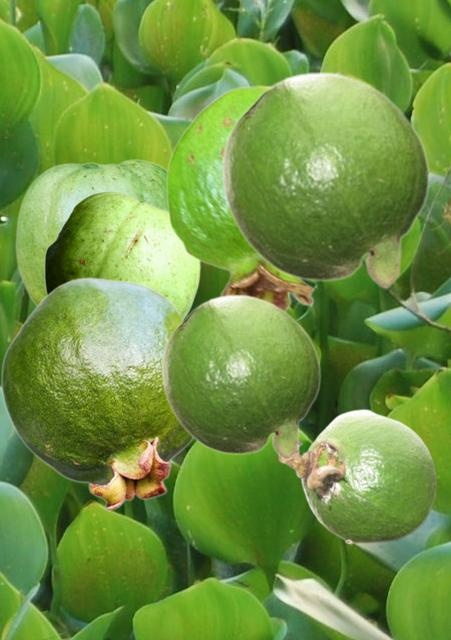guava: (220, 70, 429, 289), (0, 277, 193, 510), (165, 84, 315, 310), (15, 159, 201, 305), (160, 293, 320, 460), (277, 408, 437, 543), (44, 191, 199, 317)
